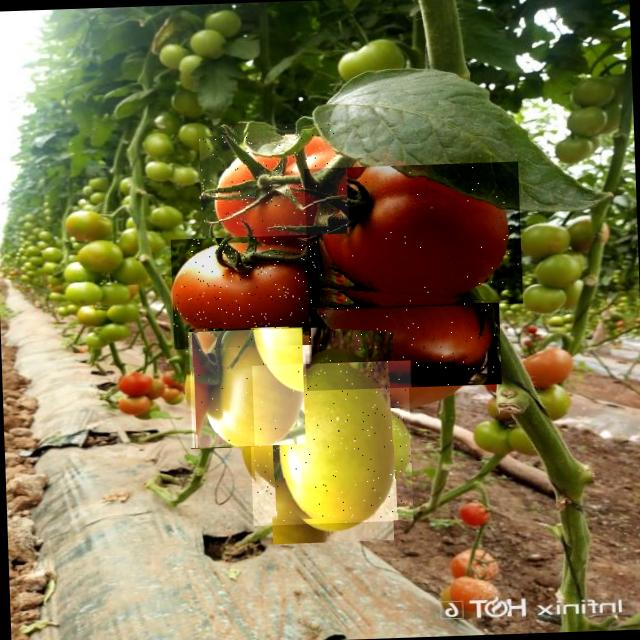Ripe Tomato: (304, 161, 522, 310), (198, 121, 349, 238), (304, 302, 501, 391), (170, 234, 321, 349)
Unripe Tomato: (248, 360, 412, 525), (185, 328, 305, 448)
